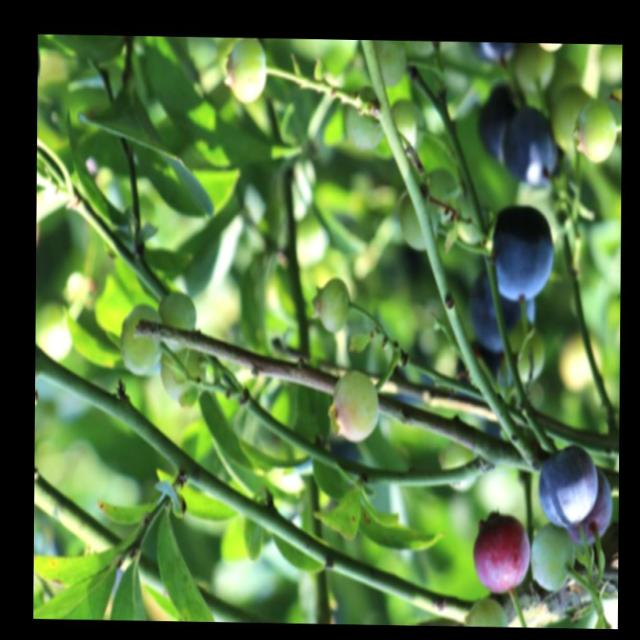blueberry: (491, 202, 556, 304), (472, 270, 535, 357), (537, 440, 598, 523), (503, 105, 555, 186), (566, 470, 614, 542)
blueberry-halfripe: (471, 509, 530, 595)
blueberry-unripe: (328, 364, 381, 441), (526, 523, 576, 590), (342, 84, 387, 151), (119, 305, 162, 374), (158, 345, 206, 406), (224, 36, 266, 103), (572, 96, 616, 158), (394, 194, 442, 247), (314, 273, 351, 332), (388, 97, 426, 152), (366, 40, 408, 85), (160, 294, 196, 343)
